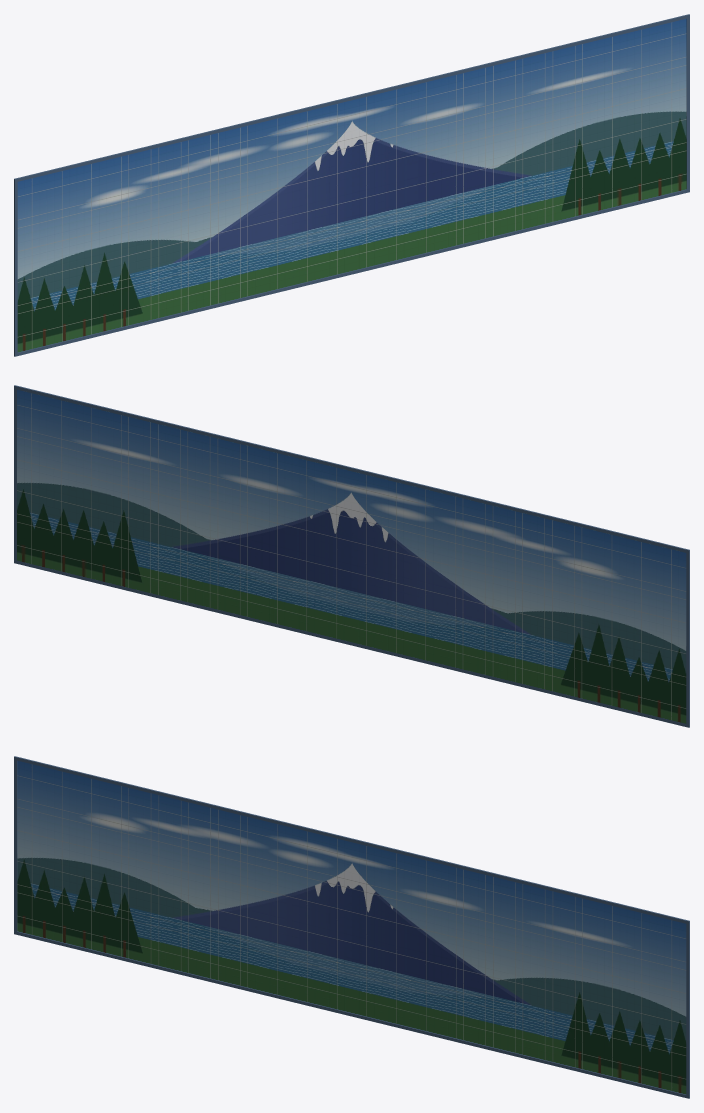
The model's file is mural.glb.
The picture shows the model from 3 angles, top to bottom: view 1: azimuth 30°, elevation 25°; view 2: azimuth 150°, elevation 25°; view 3: azimuth 330°, elevation 25°; orthographic projection.
Parts seen in each view (by area): view 1: Panel, FrameH1, FrameH-1, FrameV-1, FrameV1; view 2: Panel, FrameH1, FrameH-1, FrameV-1; view 3: Panel, FrameH1, FrameH-1, FrameV1, FrameV-1.
Part boxes in pixels (bbox=[...]): Panel: bbox=[17, 18, 686, 352]; FrameH1: bbox=[14, 14, 689, 182]; FrameH-1: bbox=[14, 189, 689, 356]; FrameV-1: bbox=[14, 182, 17, 353]; FrameV1: bbox=[686, 18, 689, 189]; Panel: bbox=[17, 389, 686, 723]; FrameH1: bbox=[14, 385, 689, 553]; FrameH-1: bbox=[14, 560, 689, 727]; FrameV-1: bbox=[686, 553, 689, 724]; Panel: bbox=[17, 760, 686, 1094]; FrameH1: bbox=[14, 756, 689, 924]; FrameH-1: bbox=[14, 931, 689, 1098]; FrameV1: bbox=[686, 924, 689, 1095]; FrameV-1: bbox=[14, 760, 17, 931].
Size of the model in its own units: 18.16 by 4.56 by 0.0399.
Materials: 2 (1 with a texture image).
